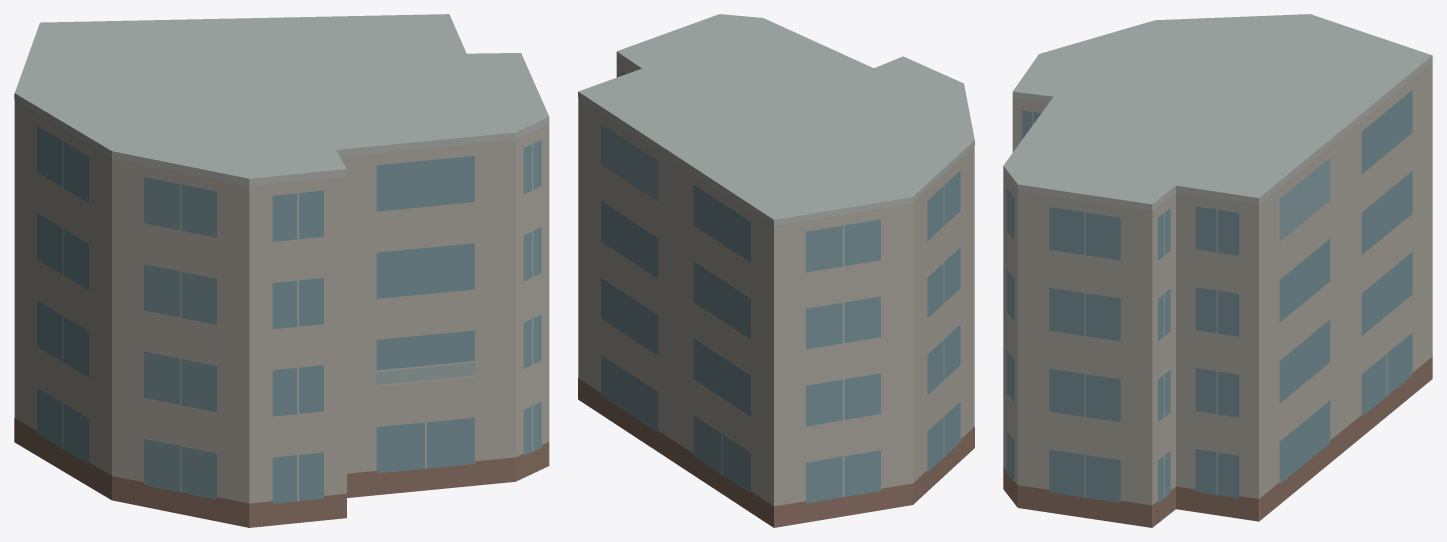
Rendered from survey-upis-32943570.glb.
3 views of the same model, side by side, from view 1: azimuth 30°, elevation 25°; view 2: azimuth 150°, elevation 25°; view 3: azimuth 270°, elevation 25° (orthographic). The views are drawn at different scales.
Visible parts, largest first — view 1: survey-upis-32943570.tmp; view 2: survey-upis-32943570.tmp; view 3: survey-upis-32943570.tmp.
Boxes of the visible parts, <box> form: survey-upis-32943570.tmp: <box>14,14,549,527</box>; survey-upis-32943570.tmp: <box>578,14,974,527</box>; survey-upis-32943570.tmp: <box>1003,14,1432,527</box>.
Bounding box in the file's own units: 15.48 × 12.25 × 14.74.
